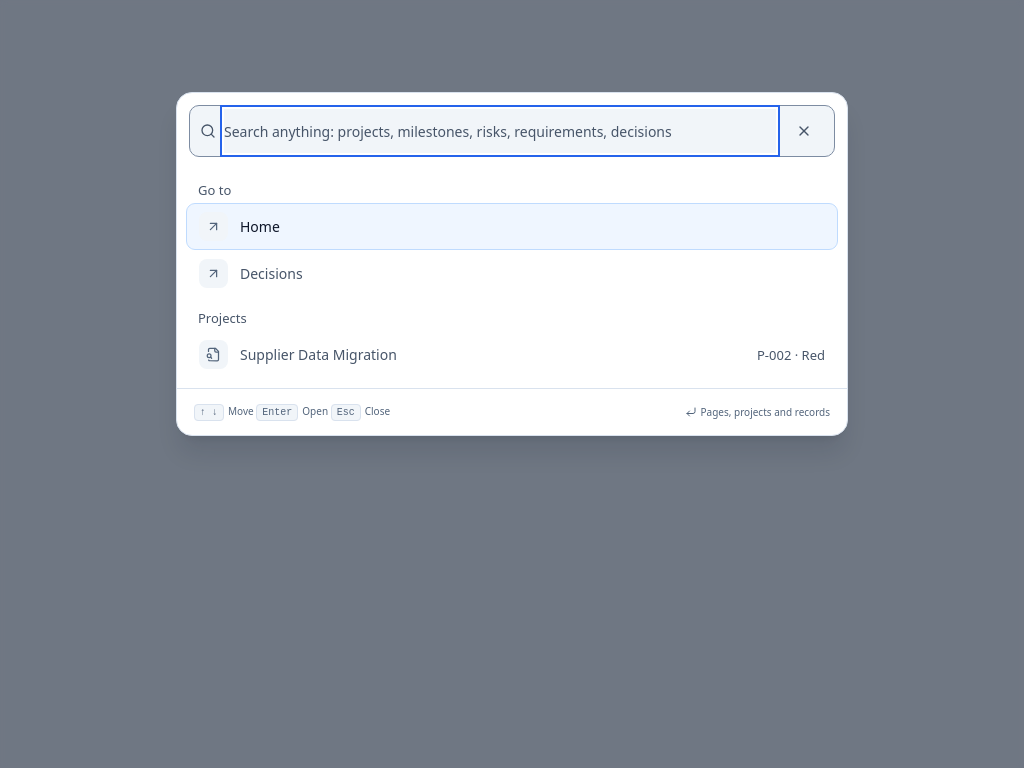
Test: workspace search › finds records that are not pages or projects
Type "supplier" into the field named "Search the workspace" at (500, 131), box 224,109 -> 776,153
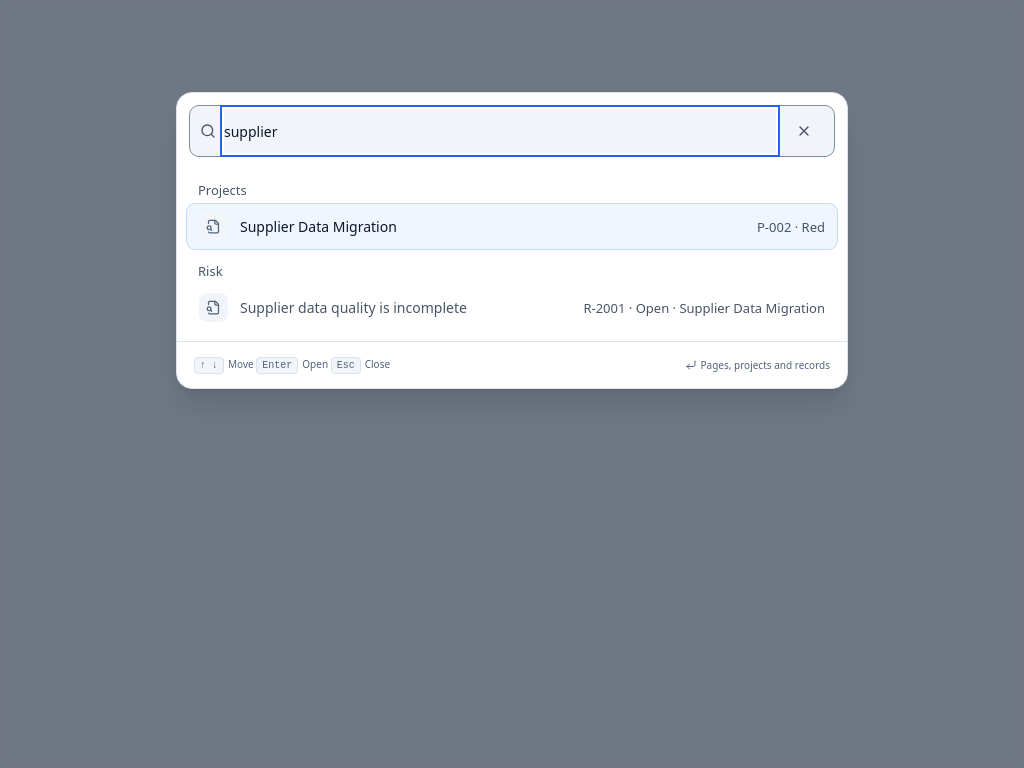
Result: the text "Supplier data quality is incomplete" is shown at 240,298 -> 467,317
Result: the text "Risk" is shown at 198,262 -> 223,280
